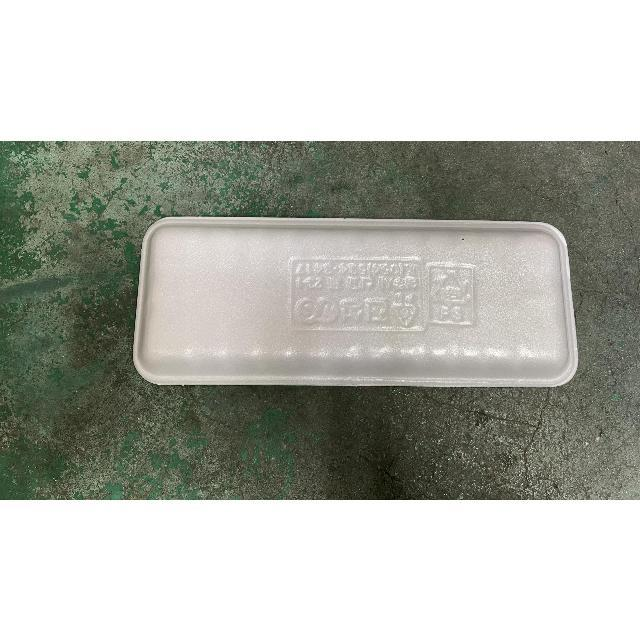Recipiente plastico: (134, 218, 578, 386)
